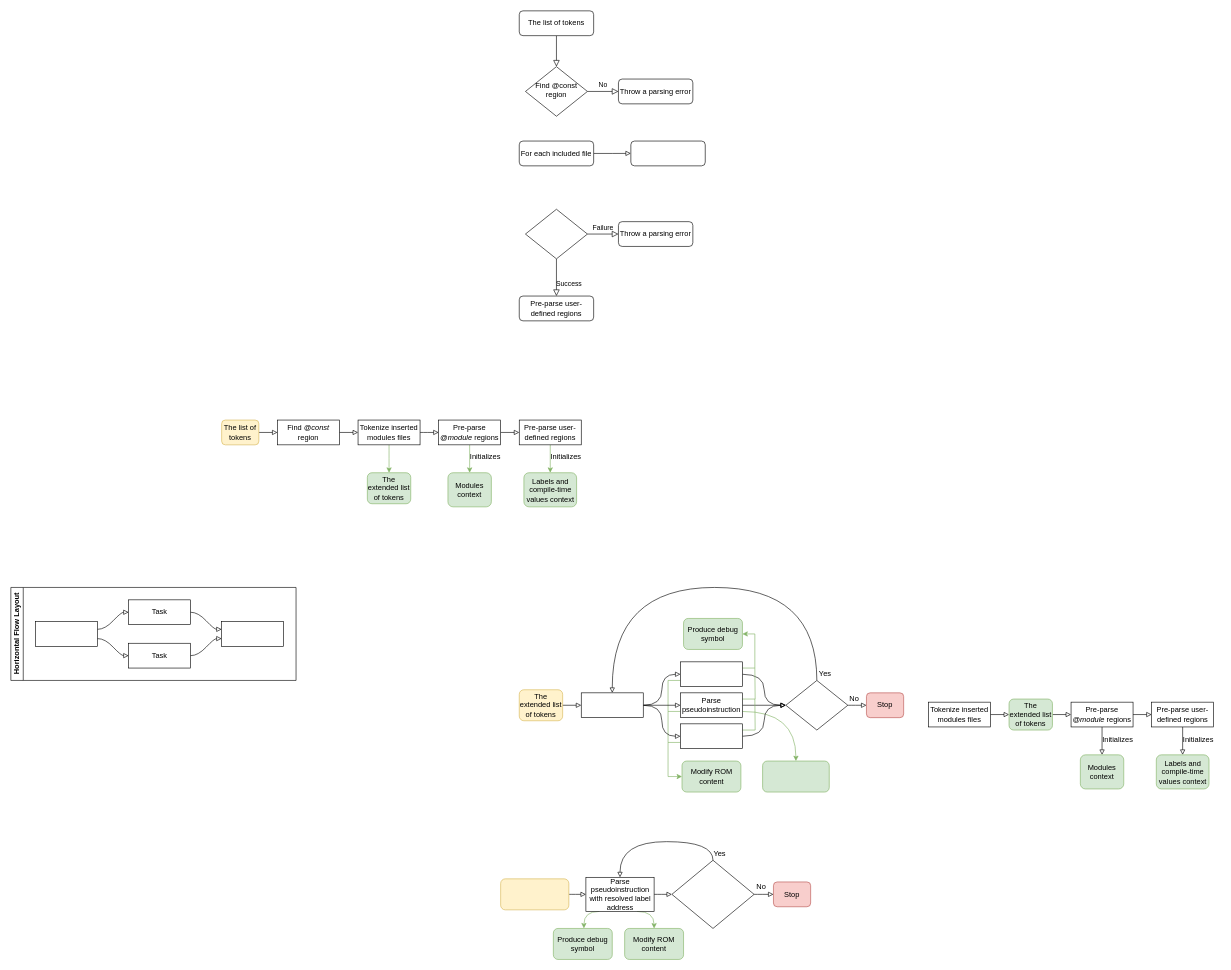
The diagram is 1231 pixels wide and 970 high, and some of its shapes have lost their labels. The shapes that lost their labels are listed below. From the top down, each one's centre as x and y in pixels, then its label:
point 667,153: Read and tokenize
point 556,234: Find @module region
point 66,633: Start
point 252,633: End
point 711,674: Parse instruction
point 612,705: Interprete intention
point 816,705: Any token left
point 711,736: Parse main-parse command
point 795,776: Add an unresolved pseudoinstruction
point 534,894: The unresolved pseudoinstructions list
point 712,894: Any unresolved pseudoinstruction left
